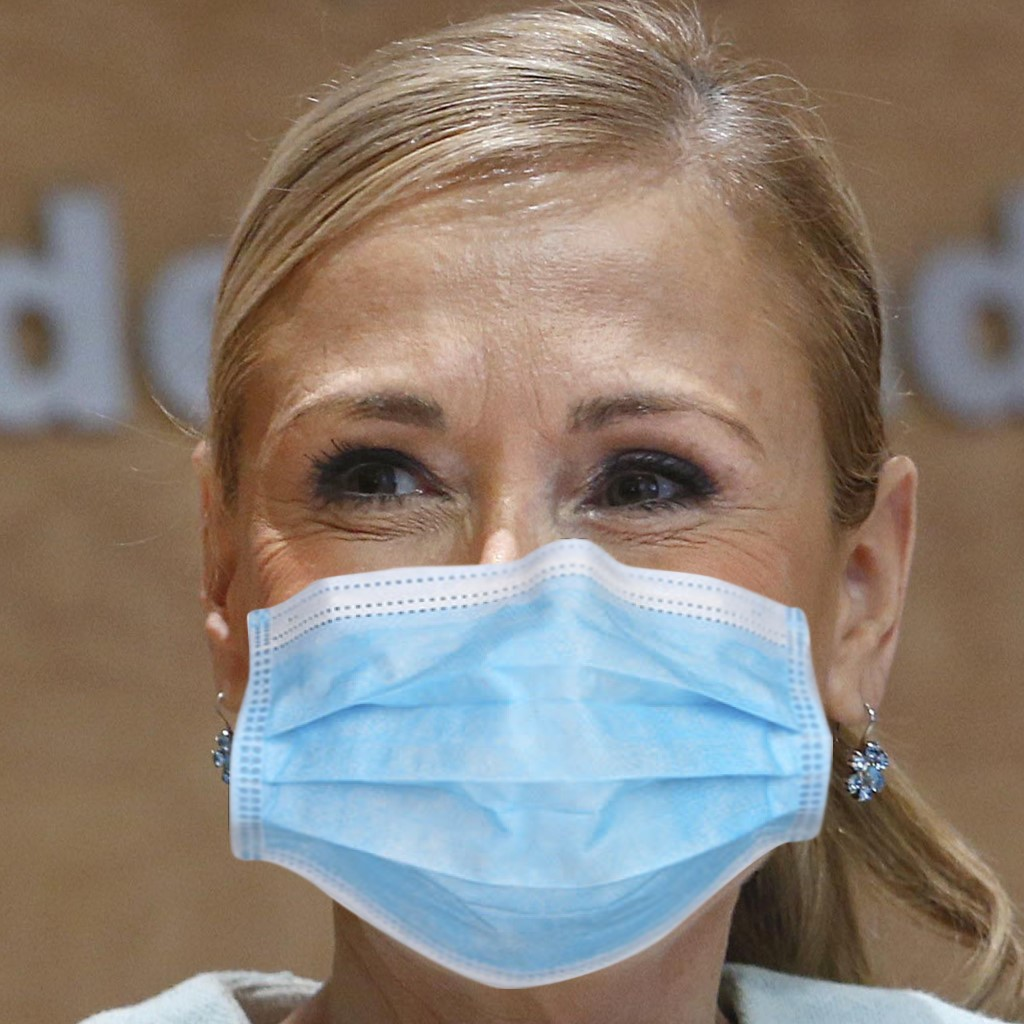con_mascara: (214, 128, 862, 972)
